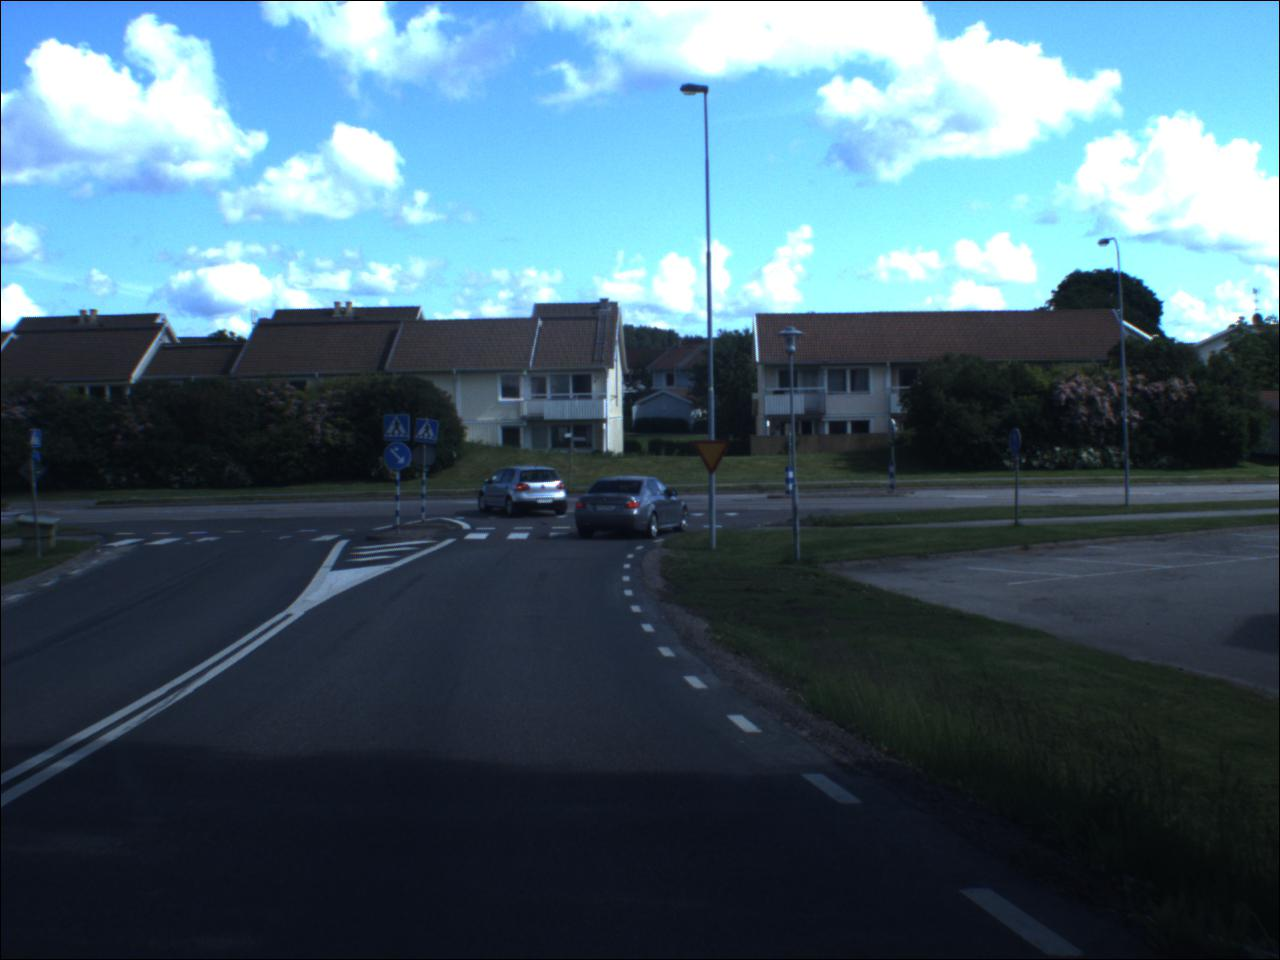GIVE_WAY: (695, 440, 731, 477)
PASS_RIGHT_SIDE: (385, 445, 414, 473), (33, 452, 45, 475)
PEDESTRIAN_CROSSING: (386, 415, 412, 443), (416, 419, 442, 445), (33, 431, 45, 449)
